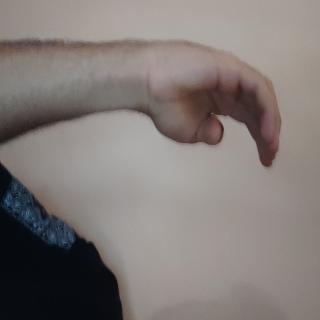JEEM: (23, 45, 132, 256)
